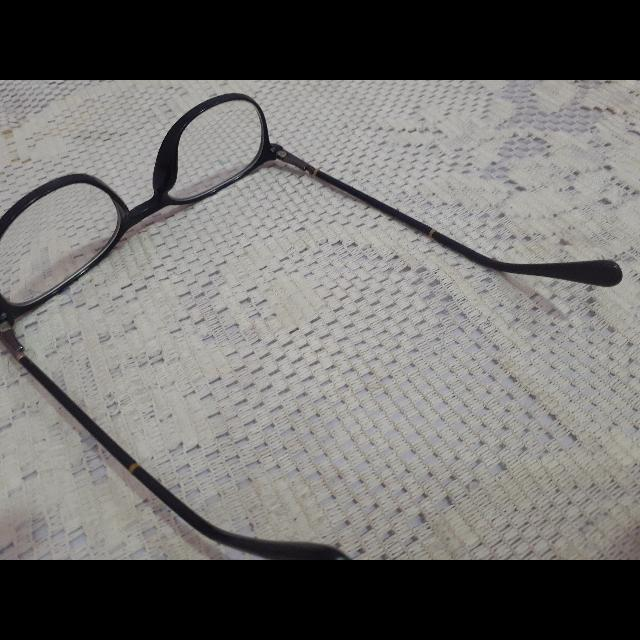glasses: (1, 90, 624, 560)
